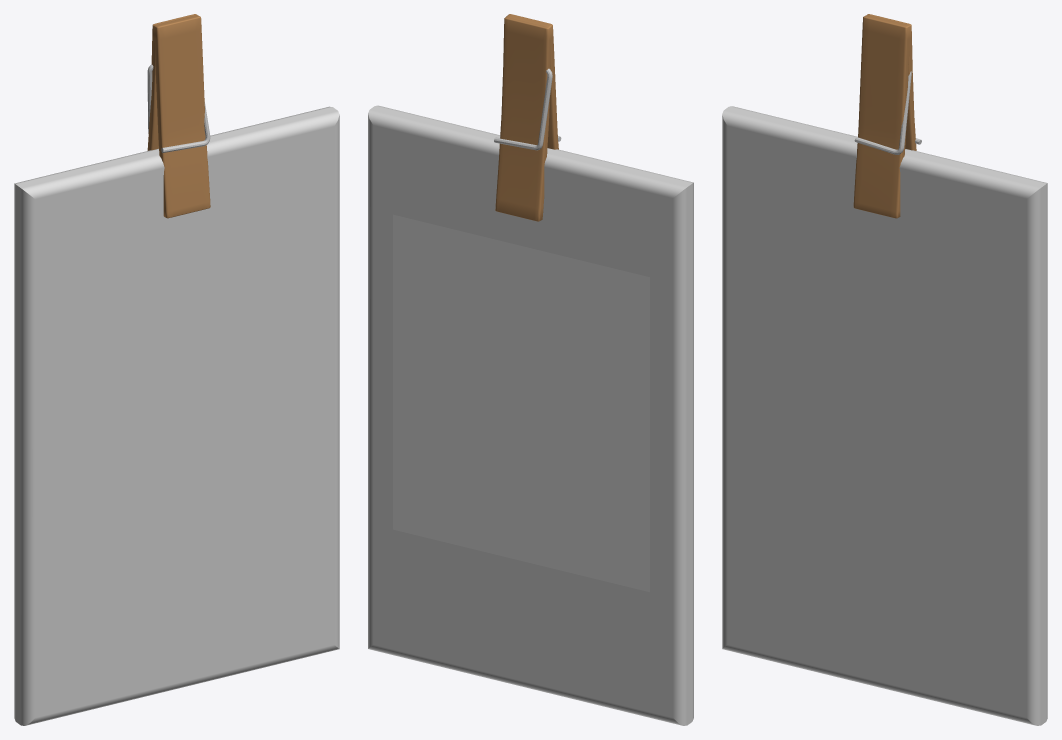
File: polaroid_with_material.glb
The picture shows the model from 3 angles, left to right: view 1: azimuth 30°, elevation 25°; view 2: azimuth 150°, elevation 25°; view 3: azimuth 330°, elevation 25°; orthographic projection.
Parts seen in each view (by area): view 1: Polaroid Frame.001, Cube 2, Cube.001, Path; view 2: Polaroid Frame.001, Plane, Cube.001, Cube 2, Path; view 3: Polaroid Frame.001, Cube 2, Cube.001, Path.
Boxes of the visible parts, x1=… form: Polaroid Frame.001: x1=14, y1=106, x2=339, y2=725; Cube 2: x1=154, y1=15, x2=210, y2=218; Cube.001: x1=147, y1=14, x2=196, y2=150; Path: x1=147, y1=64, x2=210, y2=152; Polaroid Frame.001: x1=368, y1=105, x2=693, y2=725; Plane: x1=393, y1=214, x2=649, y2=592; Cube.001: x1=495, y1=17, x2=550, y2=221; Cube 2: x1=506, y1=14, x2=558, y2=149; Path: x1=494, y1=68, x2=561, y2=150; Polaroid Frame.001: x1=722, y1=106, x2=1047, y2=725; Cube 2: x1=853, y1=15, x2=910, y2=218; Cube.001: x1=867, y1=14, x2=916, y2=150; Path: x1=854, y1=71, x2=921, y2=154.
Size of the model in its own units: 2.1 by 4.2 by 0.2763.
